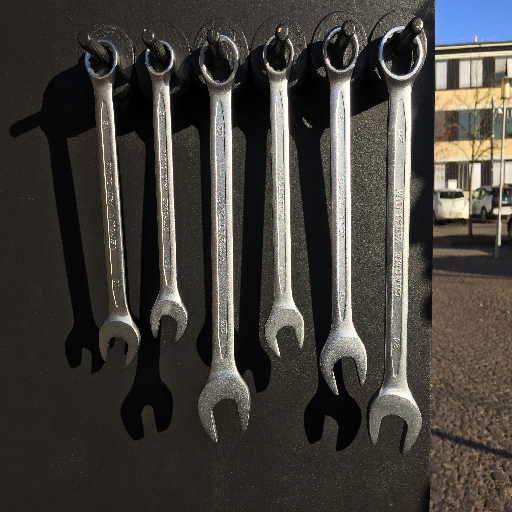bottom: (365, 385, 423, 456), (196, 369, 252, 442), (318, 323, 368, 396), (263, 300, 306, 357), (97, 314, 141, 367), (148, 288, 189, 343)
top: (375, 25, 427, 87), (197, 34, 241, 90), (320, 25, 361, 78), (82, 38, 123, 85), (261, 34, 296, 81), (143, 38, 179, 81)
